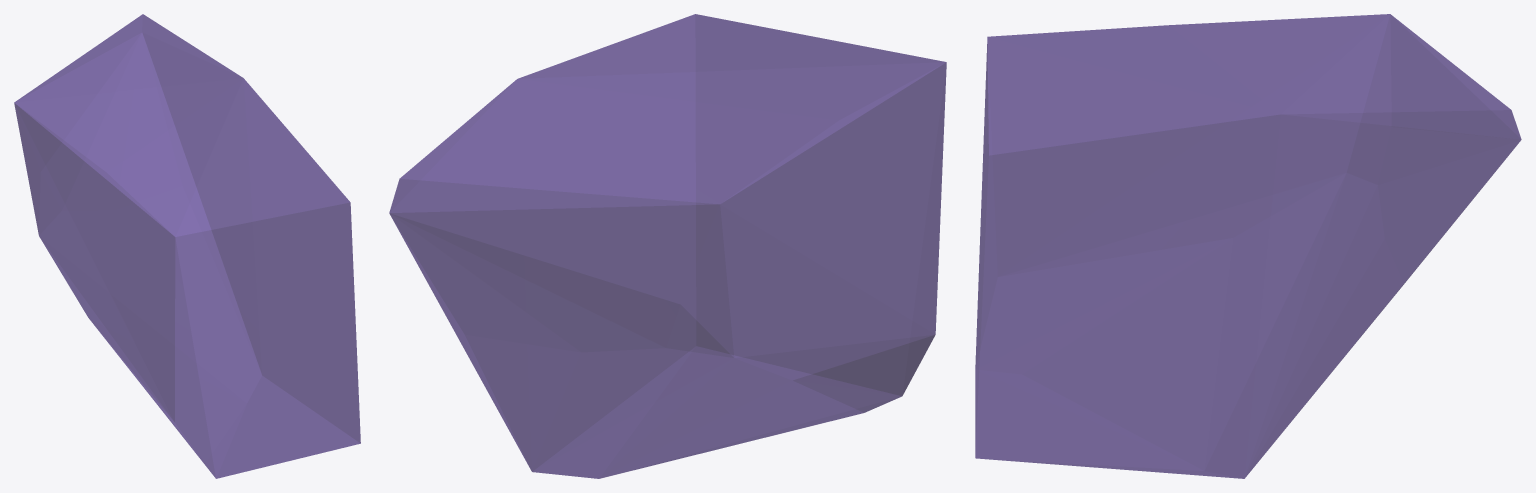
The picture shows the model from 3 angles, left to right: view 1: azimuth 30°, elevation 25°; view 2: azimuth 150°, elevation 25°; view 3: azimuth 270°, elevation 25°; orthographic projection. The views are drawn at different scales.
Parts seen in each view (by area): view 1: Shape_IndexedFaceSet.012_Shape_IndexedFaceSet.3350; view 2: Shape_IndexedFaceSet.012_Shape_IndexedFaceSet.3350; view 3: Shape_IndexedFaceSet.012_Shape_IndexedFaceSet.3350.
Part boxes in pixels (x1,y1,x2,y2): Shape_IndexedFaceSet.012_Shape_IndexedFaceSet.3350: (14, 14, 360, 478); Shape_IndexedFaceSet.012_Shape_IndexedFaceSet.3350: (389, 14, 946, 478); Shape_IndexedFaceSet.012_Shape_IndexedFaceSet.3350: (975, 14, 1521, 478).
Size of the model in its own units: 0.1959 by 0.292 by 0.3875.
